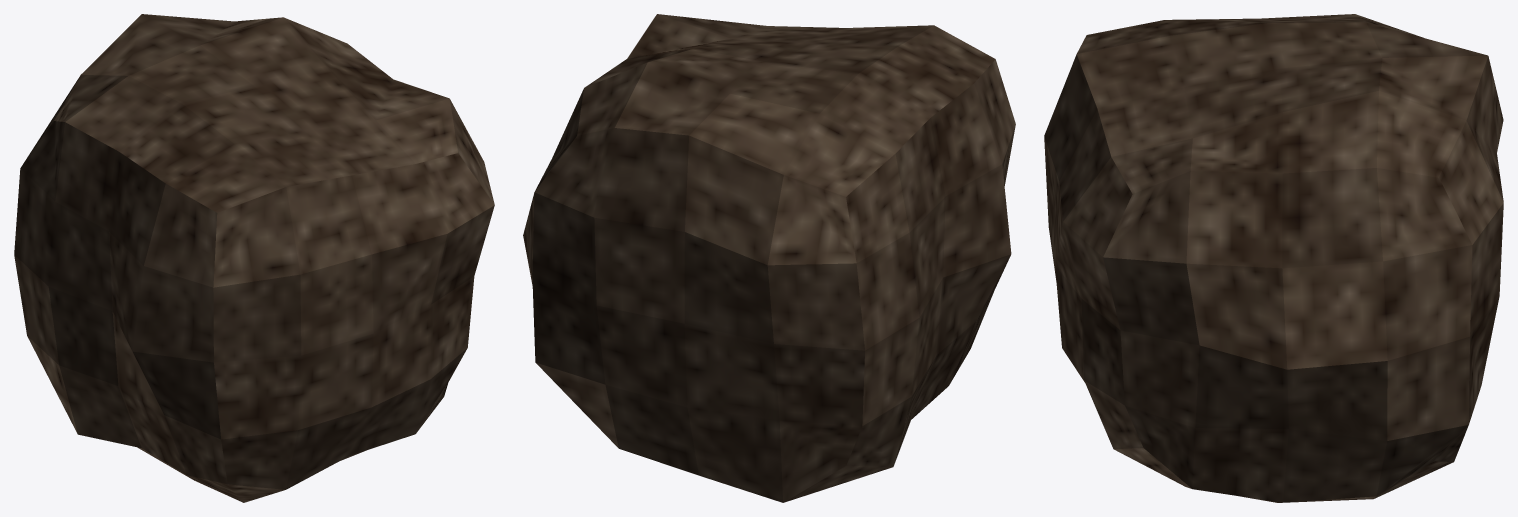
File: SM_EC_Rock_52.fbx
The picture shows the model from 3 angles, left to right: view 1: azimuth 30°, elevation 25°; view 2: azimuth 150°, elevation 25°; view 3: azimuth 270°, elevation 25°; orthographic projection. The views are drawn at different scales.
Visible parts, largest first — view 1: SM_EC_Rock_52; view 2: SM_EC_Rock_52; view 3: SM_EC_Rock_52.
Boxes of the visible parts, x1,y1,x2,y2 form: SM_EC_Rock_52: (14, 14, 494, 502); SM_EC_Rock_52: (523, 14, 1015, 502); SM_EC_Rock_52: (1044, 14, 1503, 502).
Size of the model in its own units: 0.5673 by 0.5359 by 0.5481.
